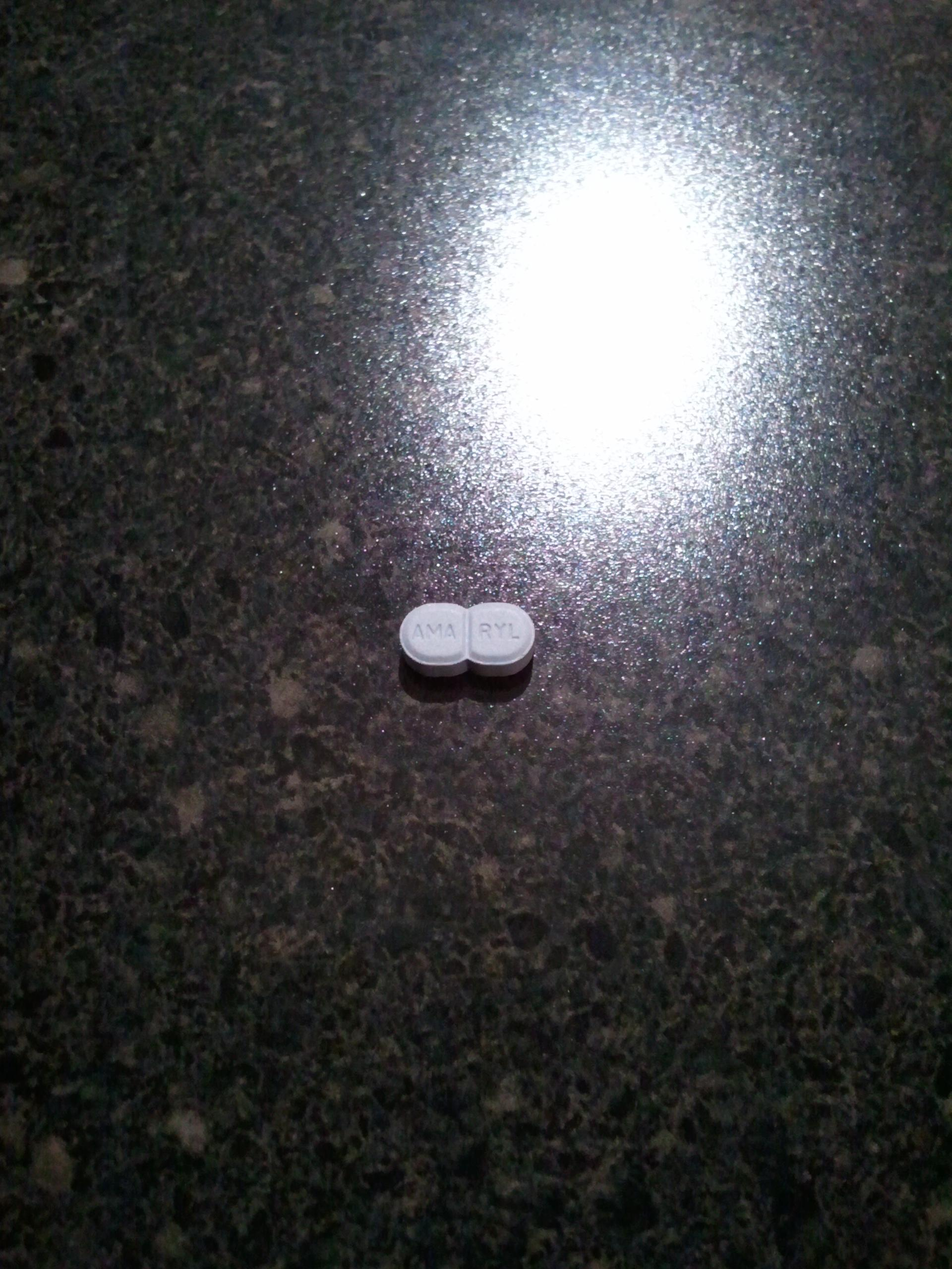Pill: (377, 582, 565, 694)
